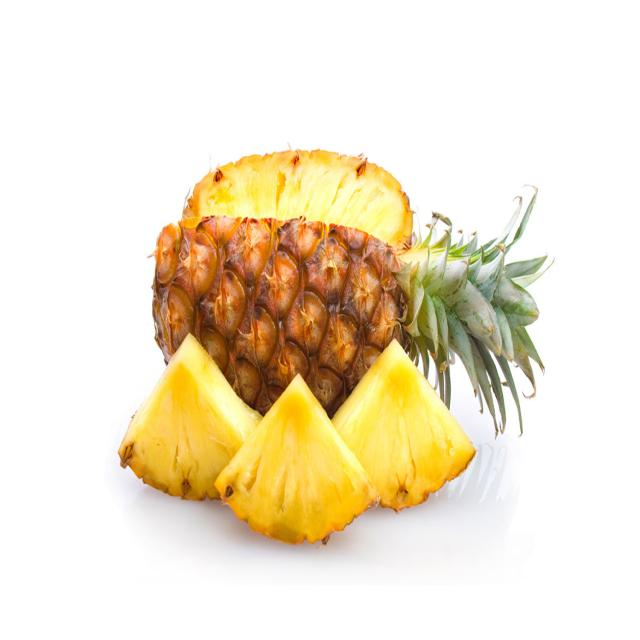pineapple: (134, 153, 450, 397)
